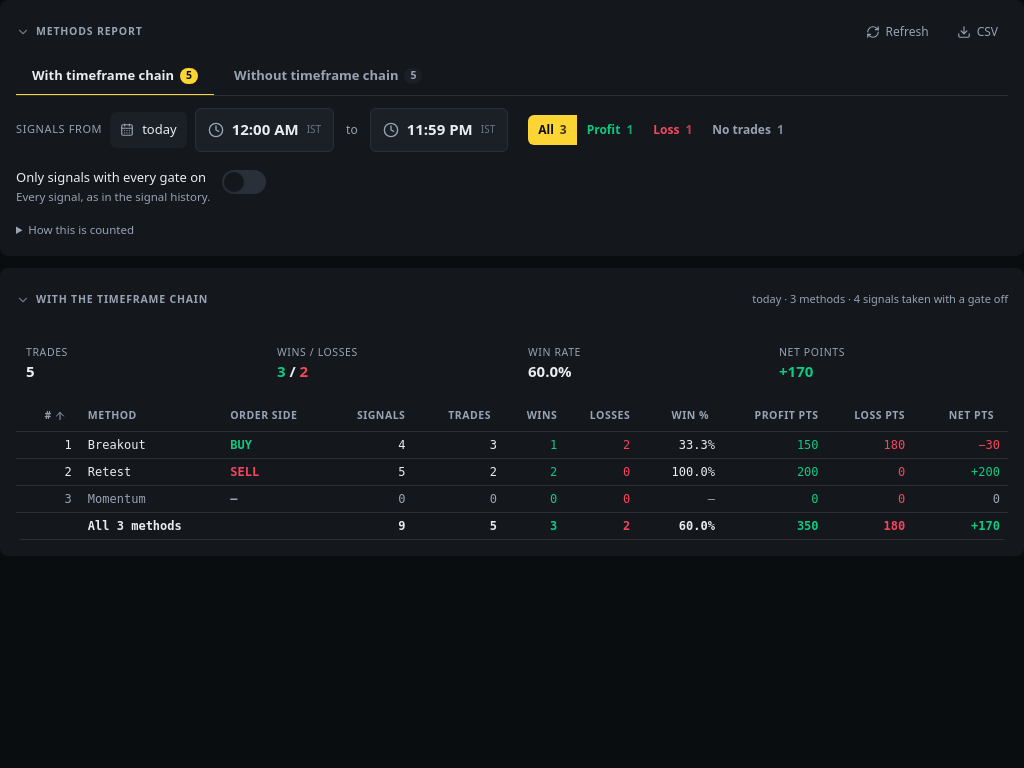
Scenario: the Methods report › [critical] Profit and Loss list the methods whose net points are up or down -- and the totals follow
Click the button "Profit 1". click: coordinates (610, 130)
box: [577, 114, 643, 144]
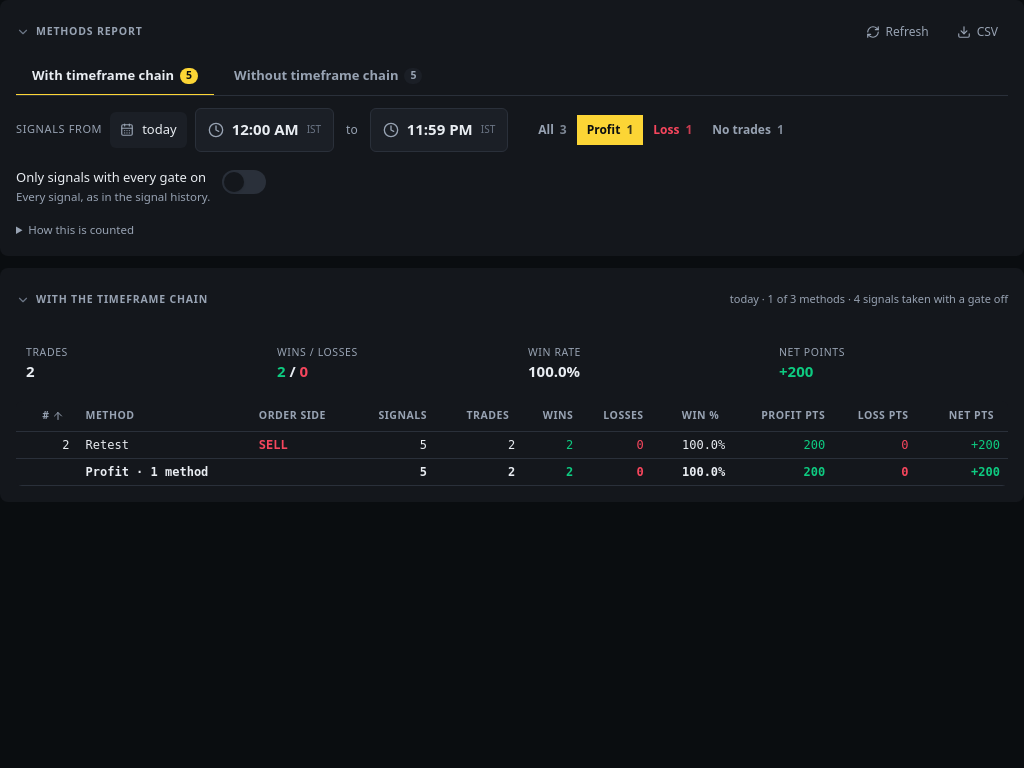
Check: the text "Breakout" is gone
Check: the text "Profit · 1 method" shows "+200", box [971, 464, 1000, 478]
Check: the text "All 3 methods" is gone
Click the button "Loss 1". click: coordinates (673, 130)
box: [643, 114, 702, 144]
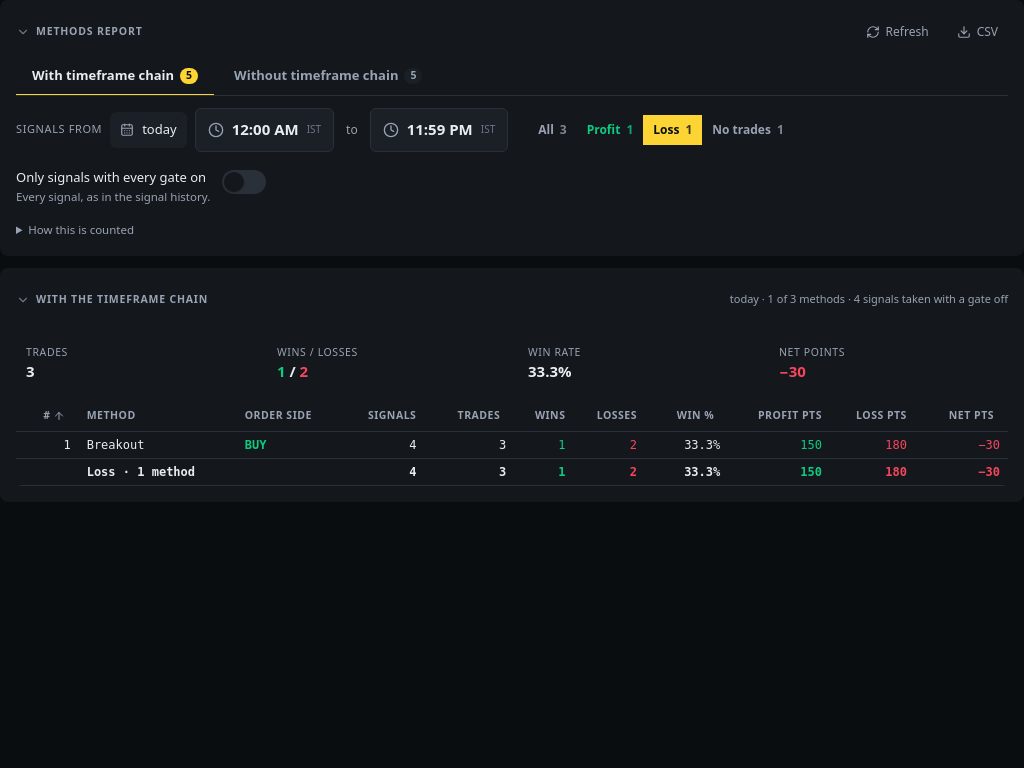
Check: the text "Breakout" is shown, box [79, 431, 237, 458]
Check: the text "Retest" is gone
Click the button "No trades 1". click: coordinates (748, 130)
box: [702, 114, 794, 144]
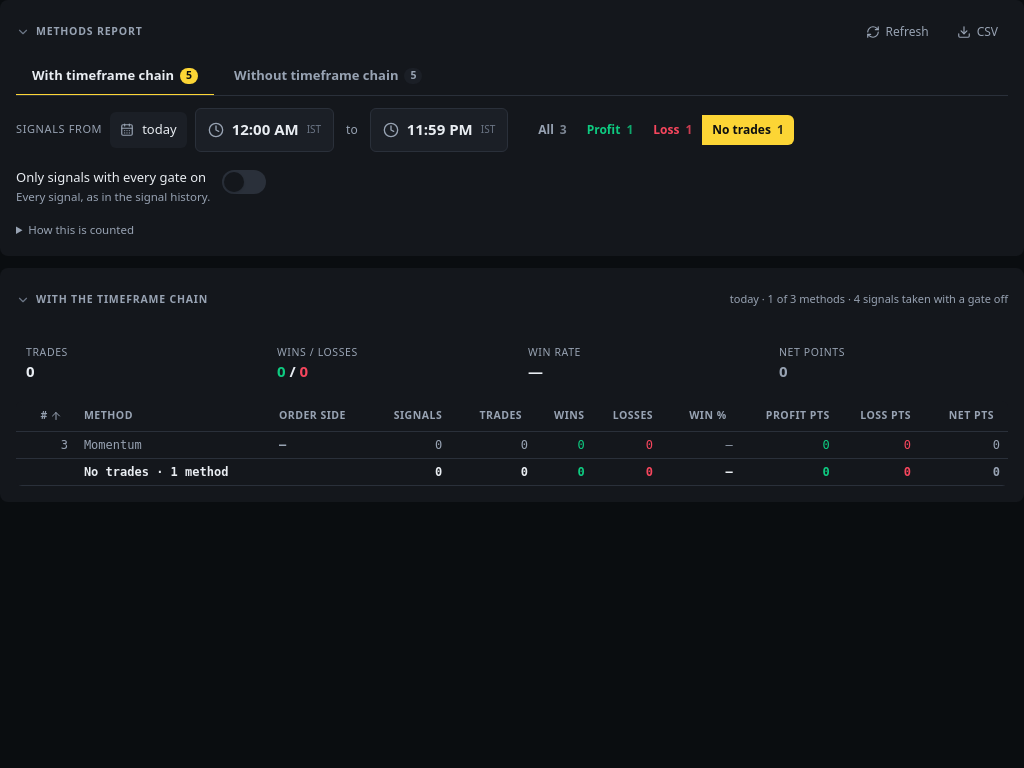
Check: the text "Momentum" is shown, box [76, 431, 271, 458]
Check: the text "Breakout" is gone
